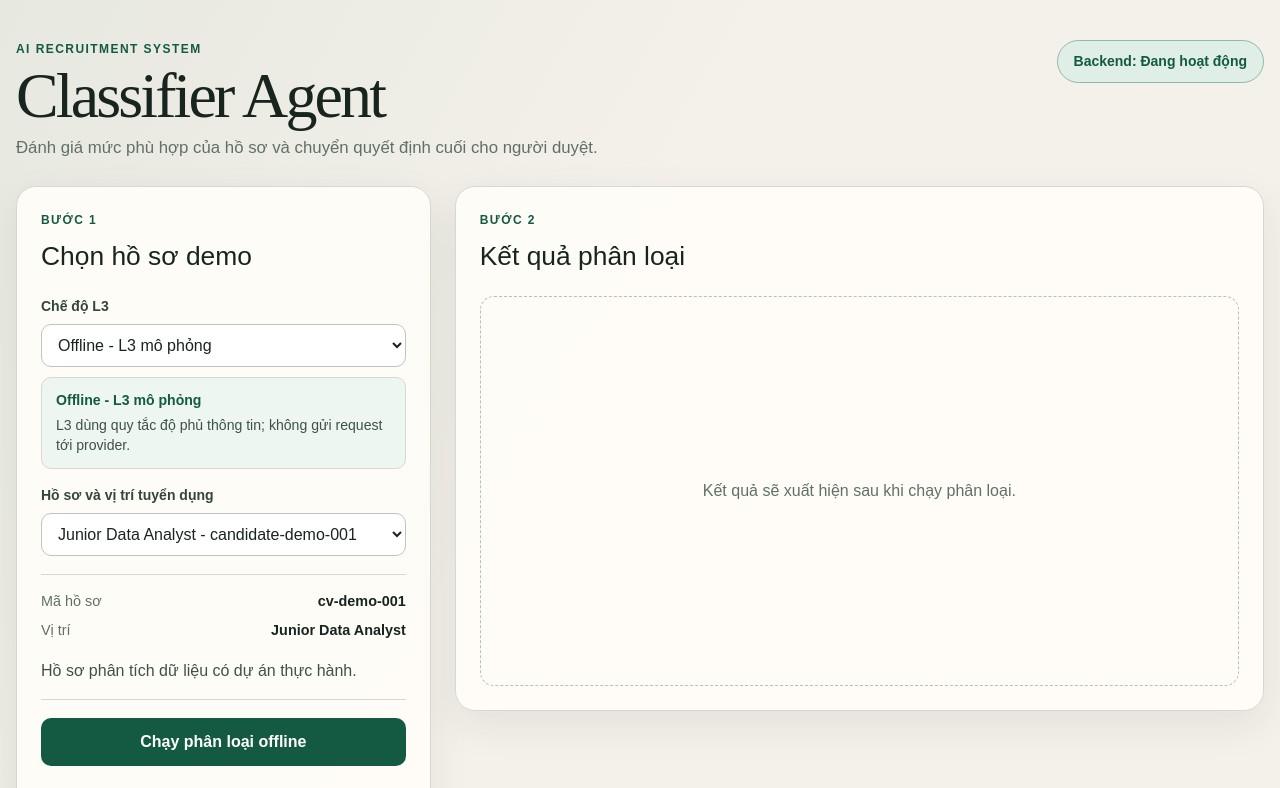
Test: ClassifierDashboard › classifies, displays evidence, approves and retrieves audit history
Expected: the text "Backend: Đang hoạt động" is shown, 1056,40 -> 1264,83
Expected: the text "Junior Data Analyst" is shown, 271,620 -> 406,642
Click the button "Chạy phân loại offline" at coordinates (223, 742), box 41,718 -> 406,766
(page scrolled)
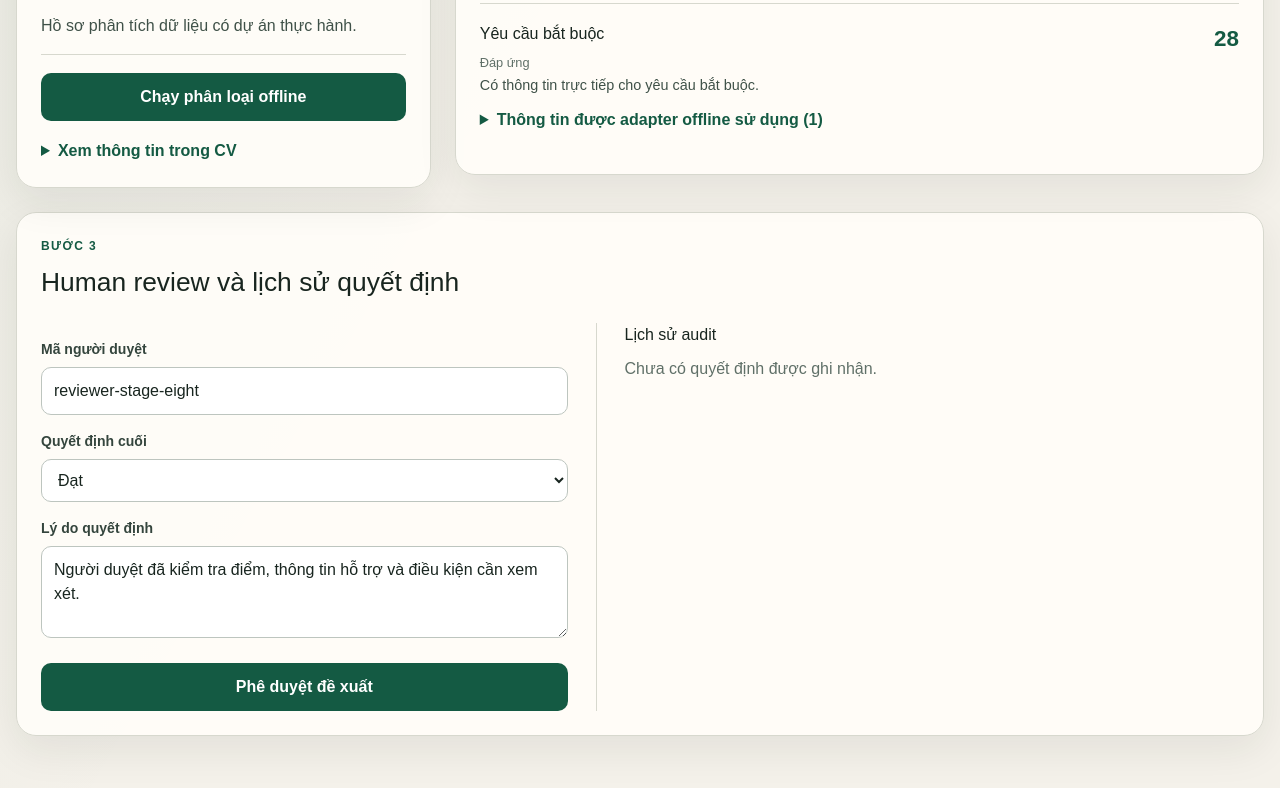
Now the text "Có thông tin trực tiếp cho yêu cầu bắt buộc." is shown, box 480,77 -> 759,93
Now the button "Phê duyệt đề xuất" is shown
Click the button "Phê duyệt đề xuất" at coordinates (304, 687), box 41,663 -> 568,711
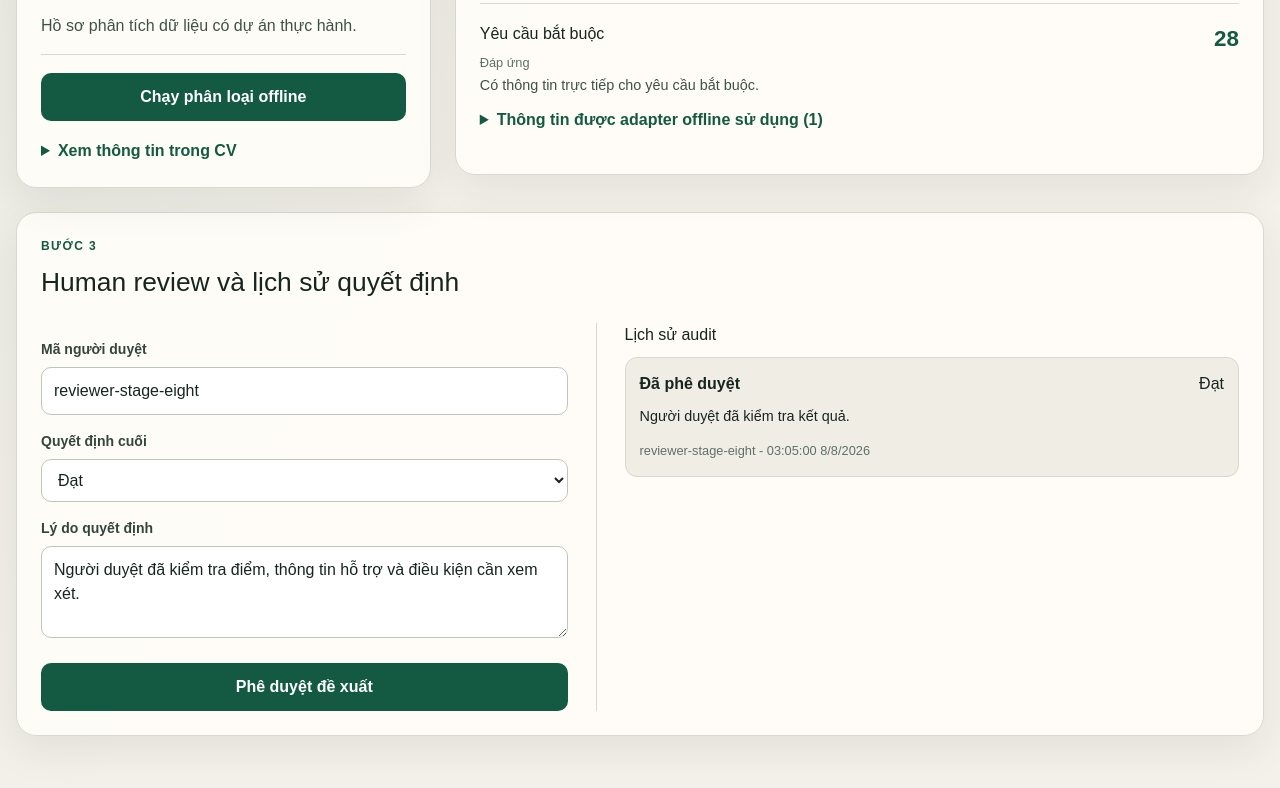
Now the text "Đã phê duyệt" is shown, box 640,372 -> 740,396
